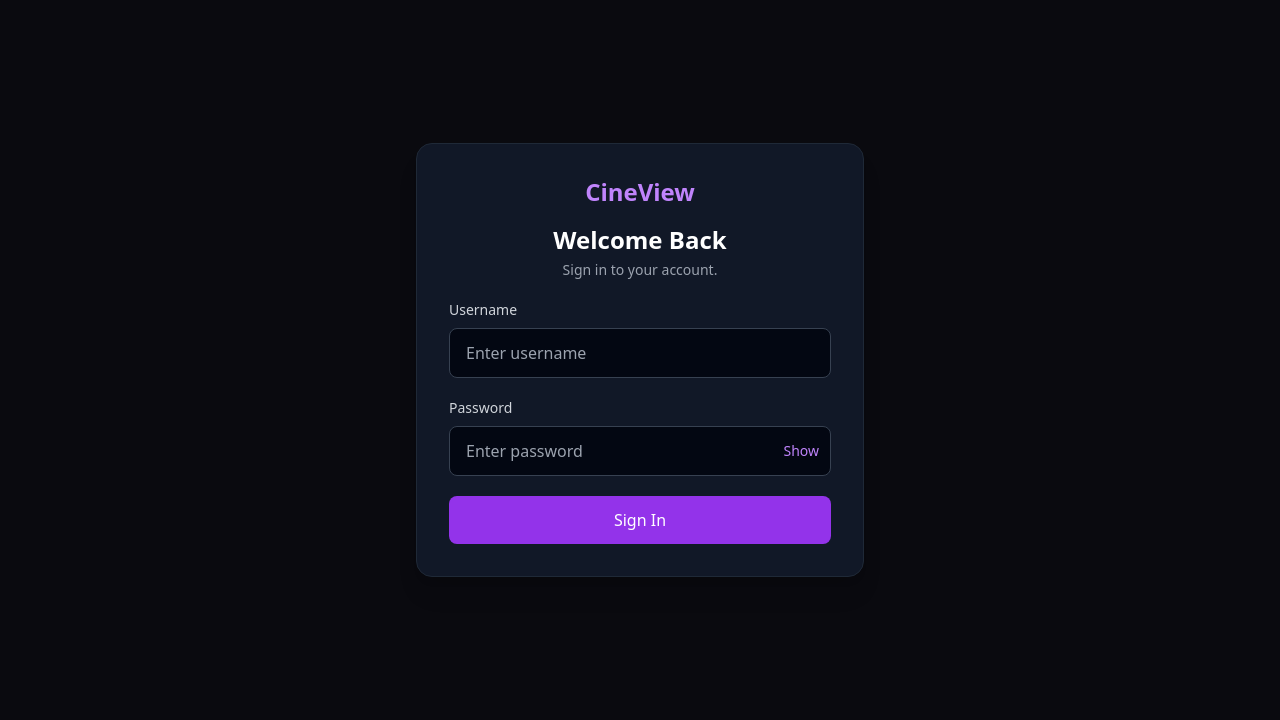
Test case: Milestone 2 authentication › logs in with valid credentials
Type "admin" into the field labelled "Username" at (640, 353), box [449,328,831,378]
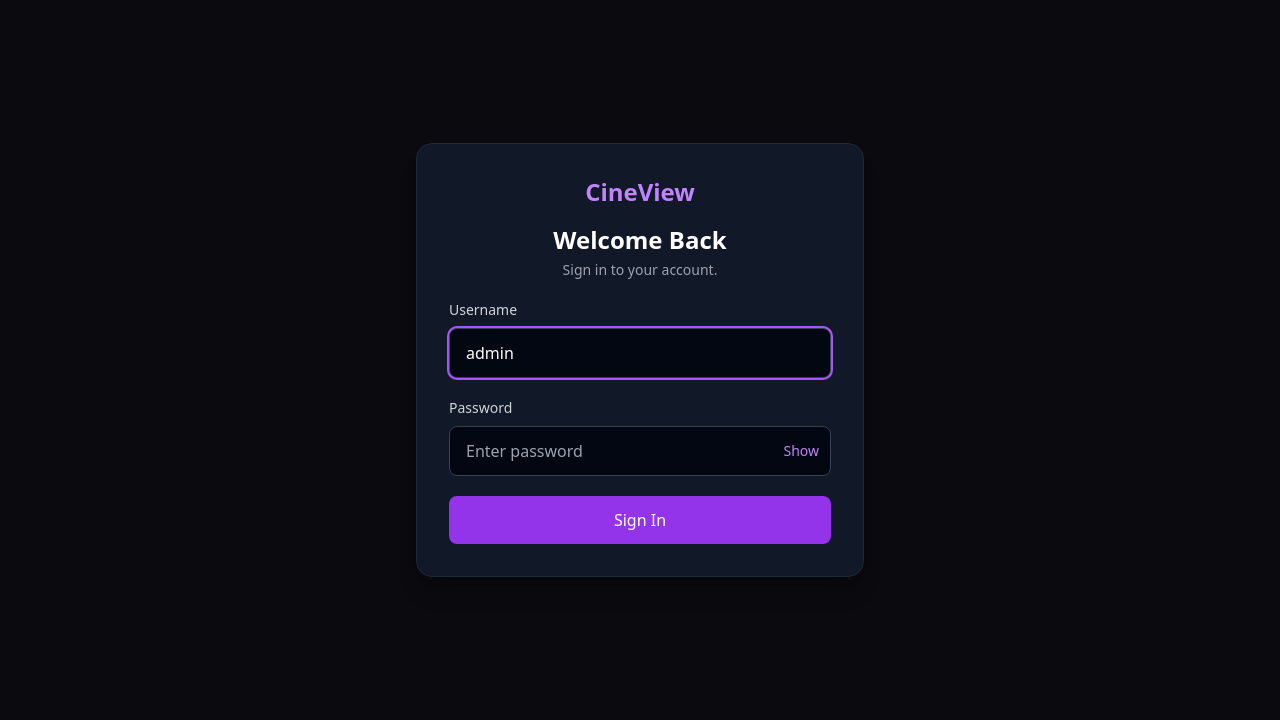
Type "admin" into the password field labelled "Password" at (640, 451), box [449,426,831,476]
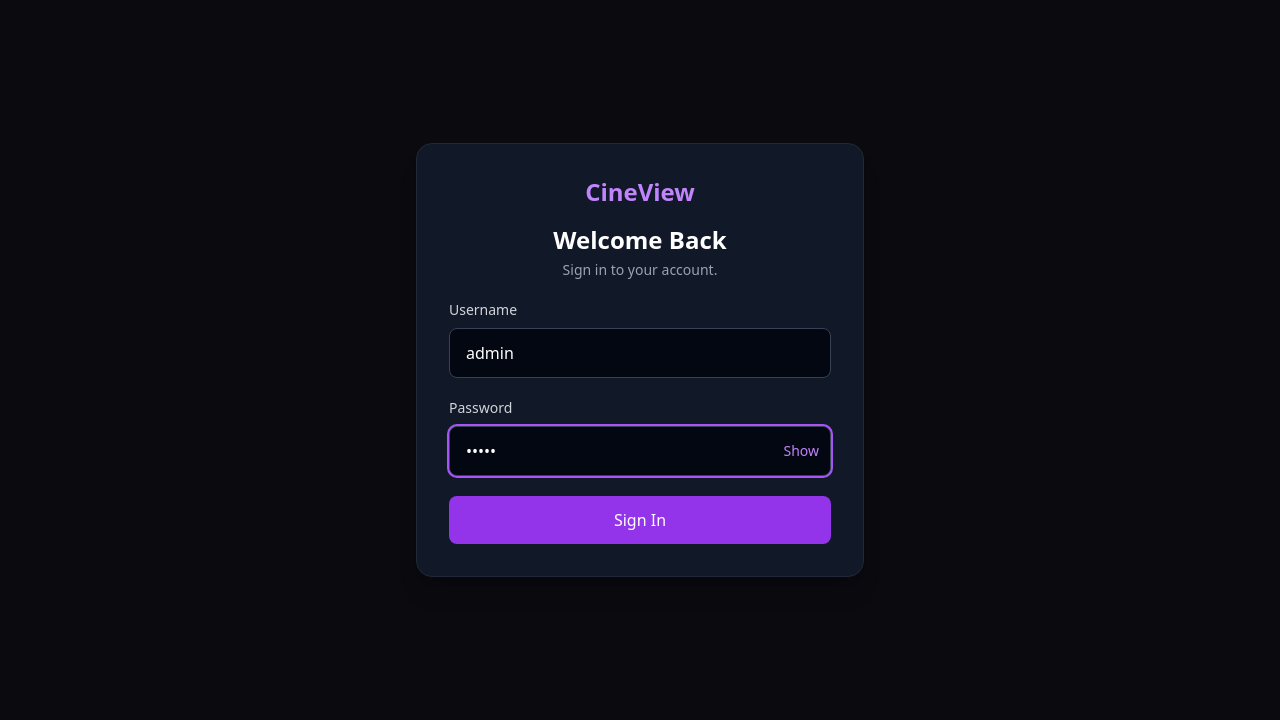
Click the button "Sign In" at (640, 520), box [449,496,831,544]
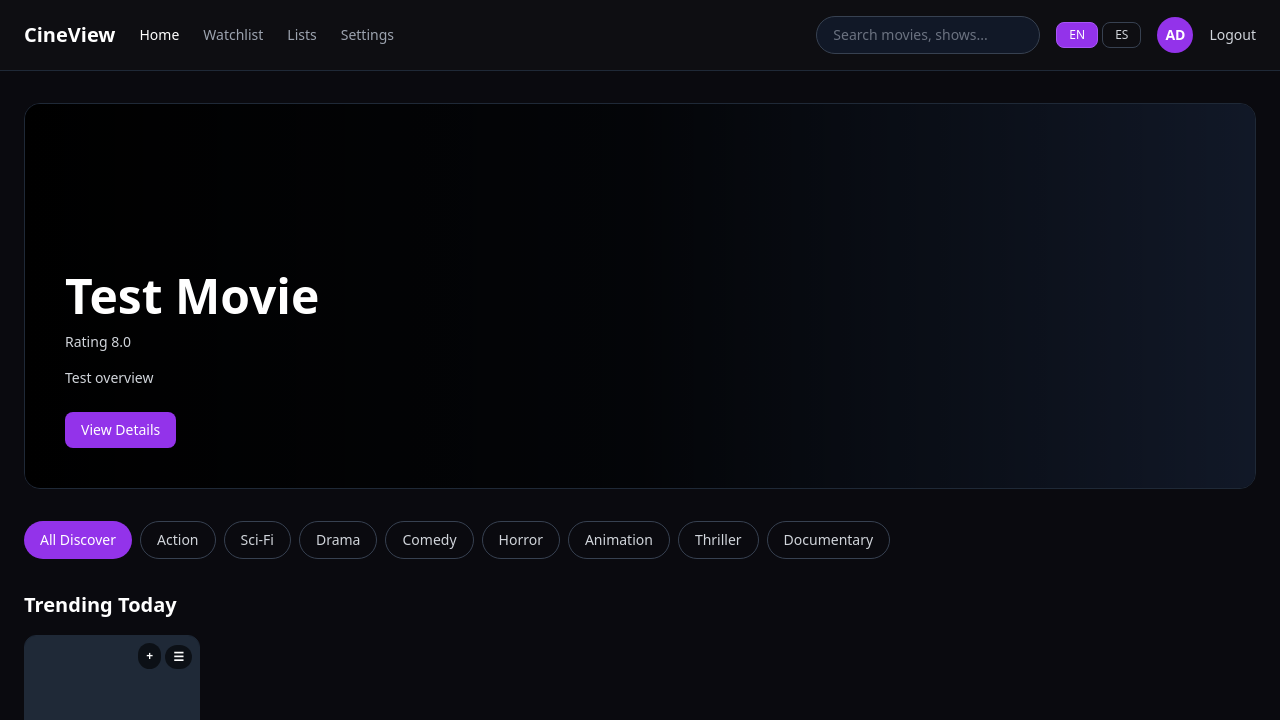
Result: the link "Home" is shown at [140,25,179,45]
